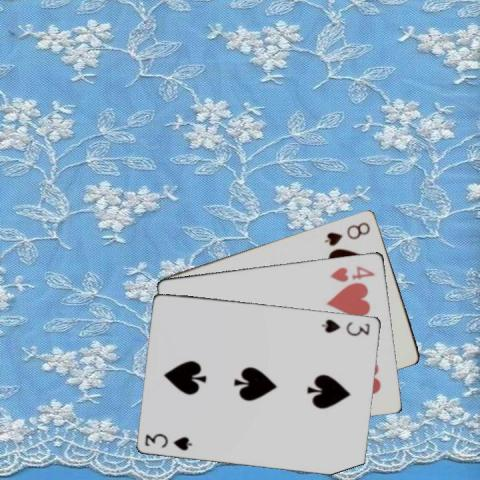3s: (142, 430, 194, 452), (319, 316, 372, 337)
4h: (327, 263, 376, 281)
8s: (321, 219, 372, 247)
